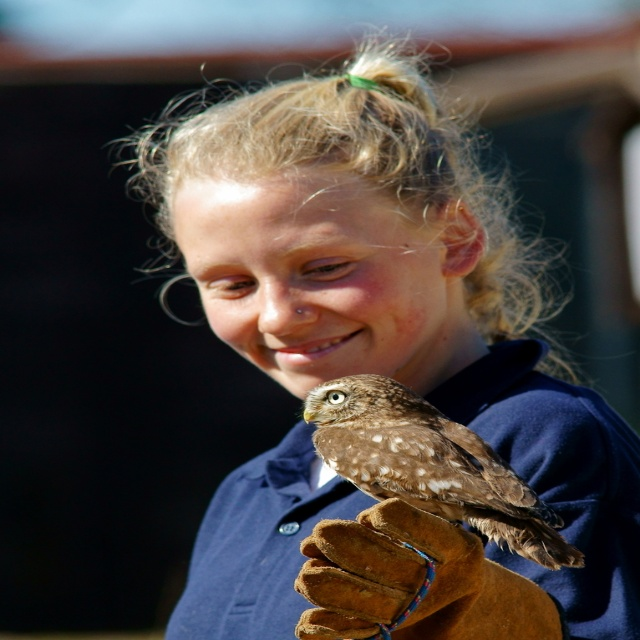Owl: (305, 372, 587, 568)
